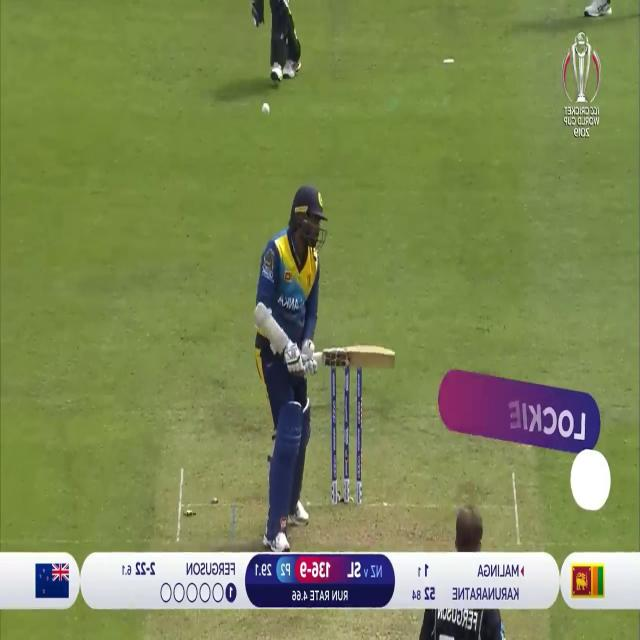ball: (258, 96, 270, 125)
